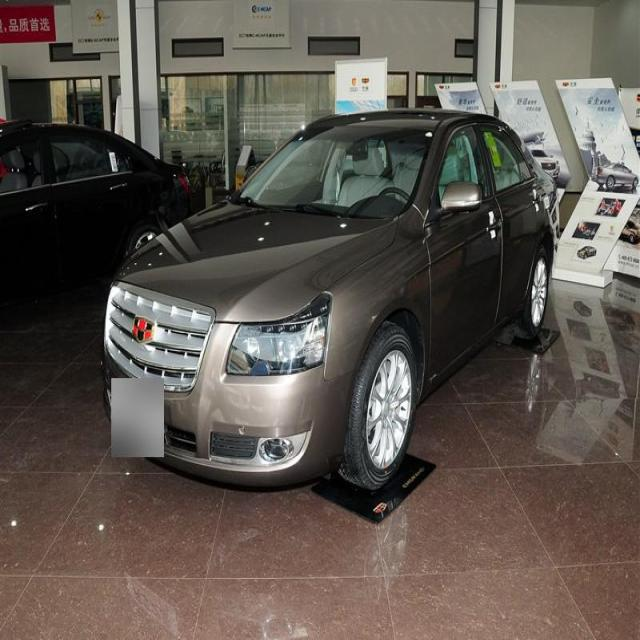front_bumper: (102, 315, 355, 486)
front_glass: (240, 131, 432, 212)
front_left_side_door: (422, 118, 503, 390)
front_left_side_light: (224, 290, 334, 379)
front_left_side_mirror: (438, 177, 483, 221)
wheel: (343, 325, 420, 494), (518, 247, 550, 338)
